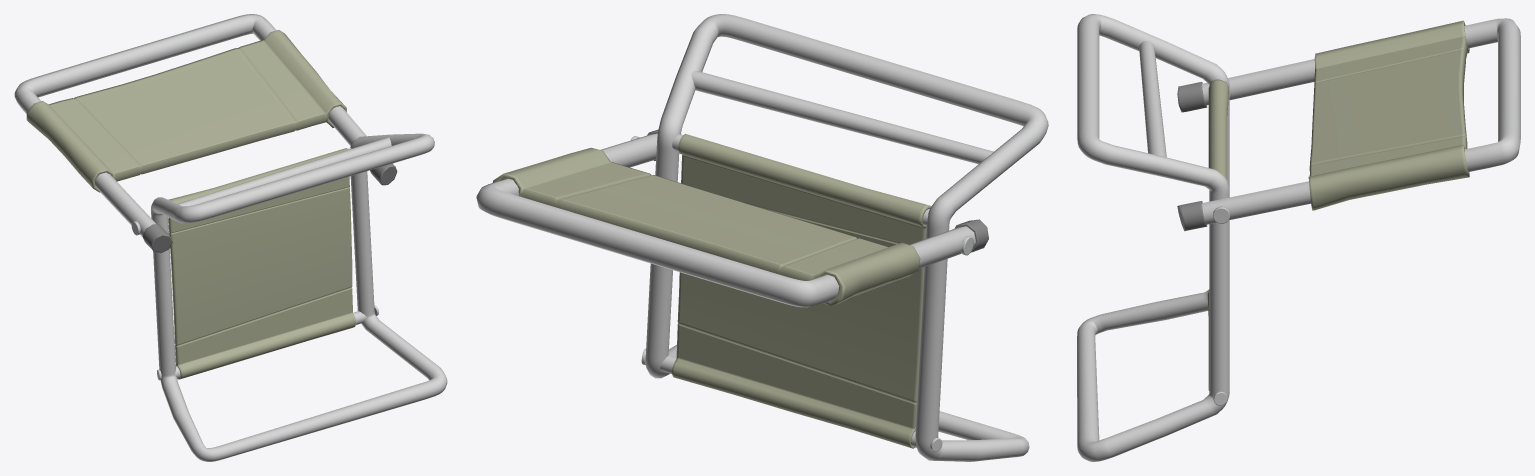
Rendered from fishing_chair.fbx.
The picture shows the model from 3 angles, left to right: view 1: azimuth 30°, elevation 25°; view 2: azimuth 150°, elevation 25°; view 3: azimuth 270°, elevation 25°; orthographic projection. The views are drawn at different scales.
Parts seen in each view (by area): view 1: export_fishing_chair; view 2: export_fishing_chair; view 3: export_fishing_chair.
Part boxes in pixels (<box>): export_fishing_chair: <box>14,14,447,461</box>; export_fishing_chair: <box>476,14,1048,461</box>; export_fishing_chair: <box>1077,14,1520,461</box>.
Size of the model in its own units: 56.25 by 54.11 by 65.92.
